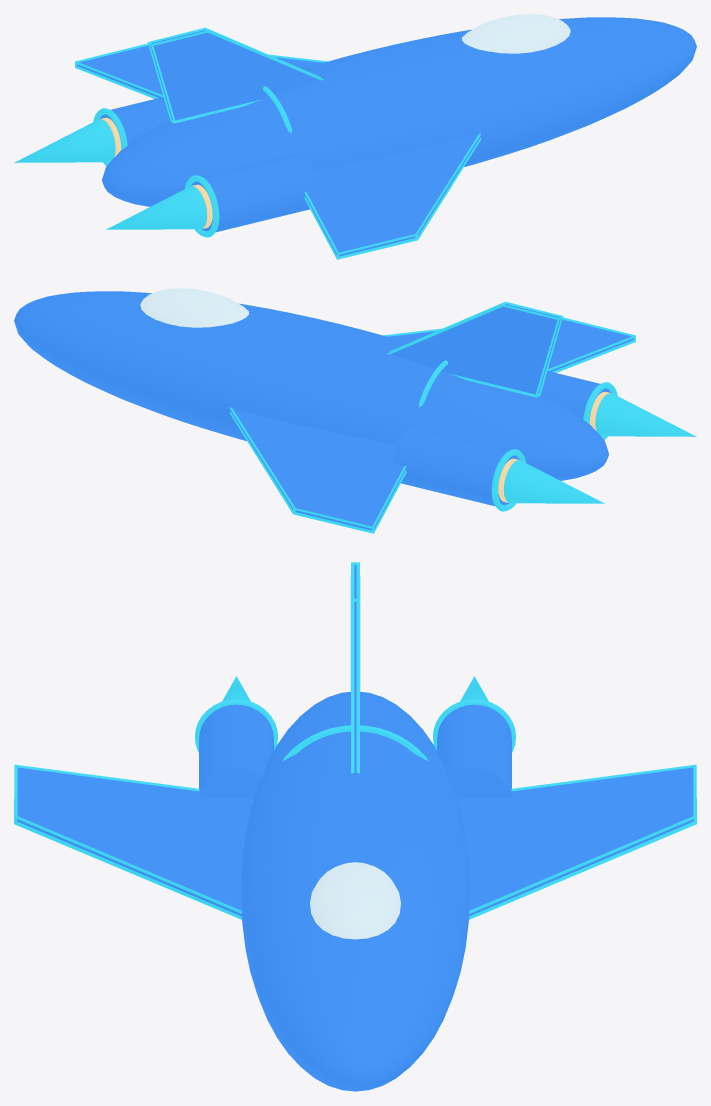
Rendered from ship.glb.
3 renders of one model, top to bottom at view 1: azimuth 30°, elevation 25°; view 2: azimuth 150°, elevation 25°; view 3: azimuth 270°, elevation 25°, orthographic. The views are drawn at different scales.
Visible parts, largest first — view 1: body; view 2: body; view 3: body.
Boxes of the visible parts, left/top/right/bottom form: body: left=14, top=14, right=696, bottom=259; body: left=14, top=288, right=696, bottom=533; body: left=14, top=562, right=696, bottom=1091.
Size of the model in its own units: 1 by 0.2909 by 0.7175.
